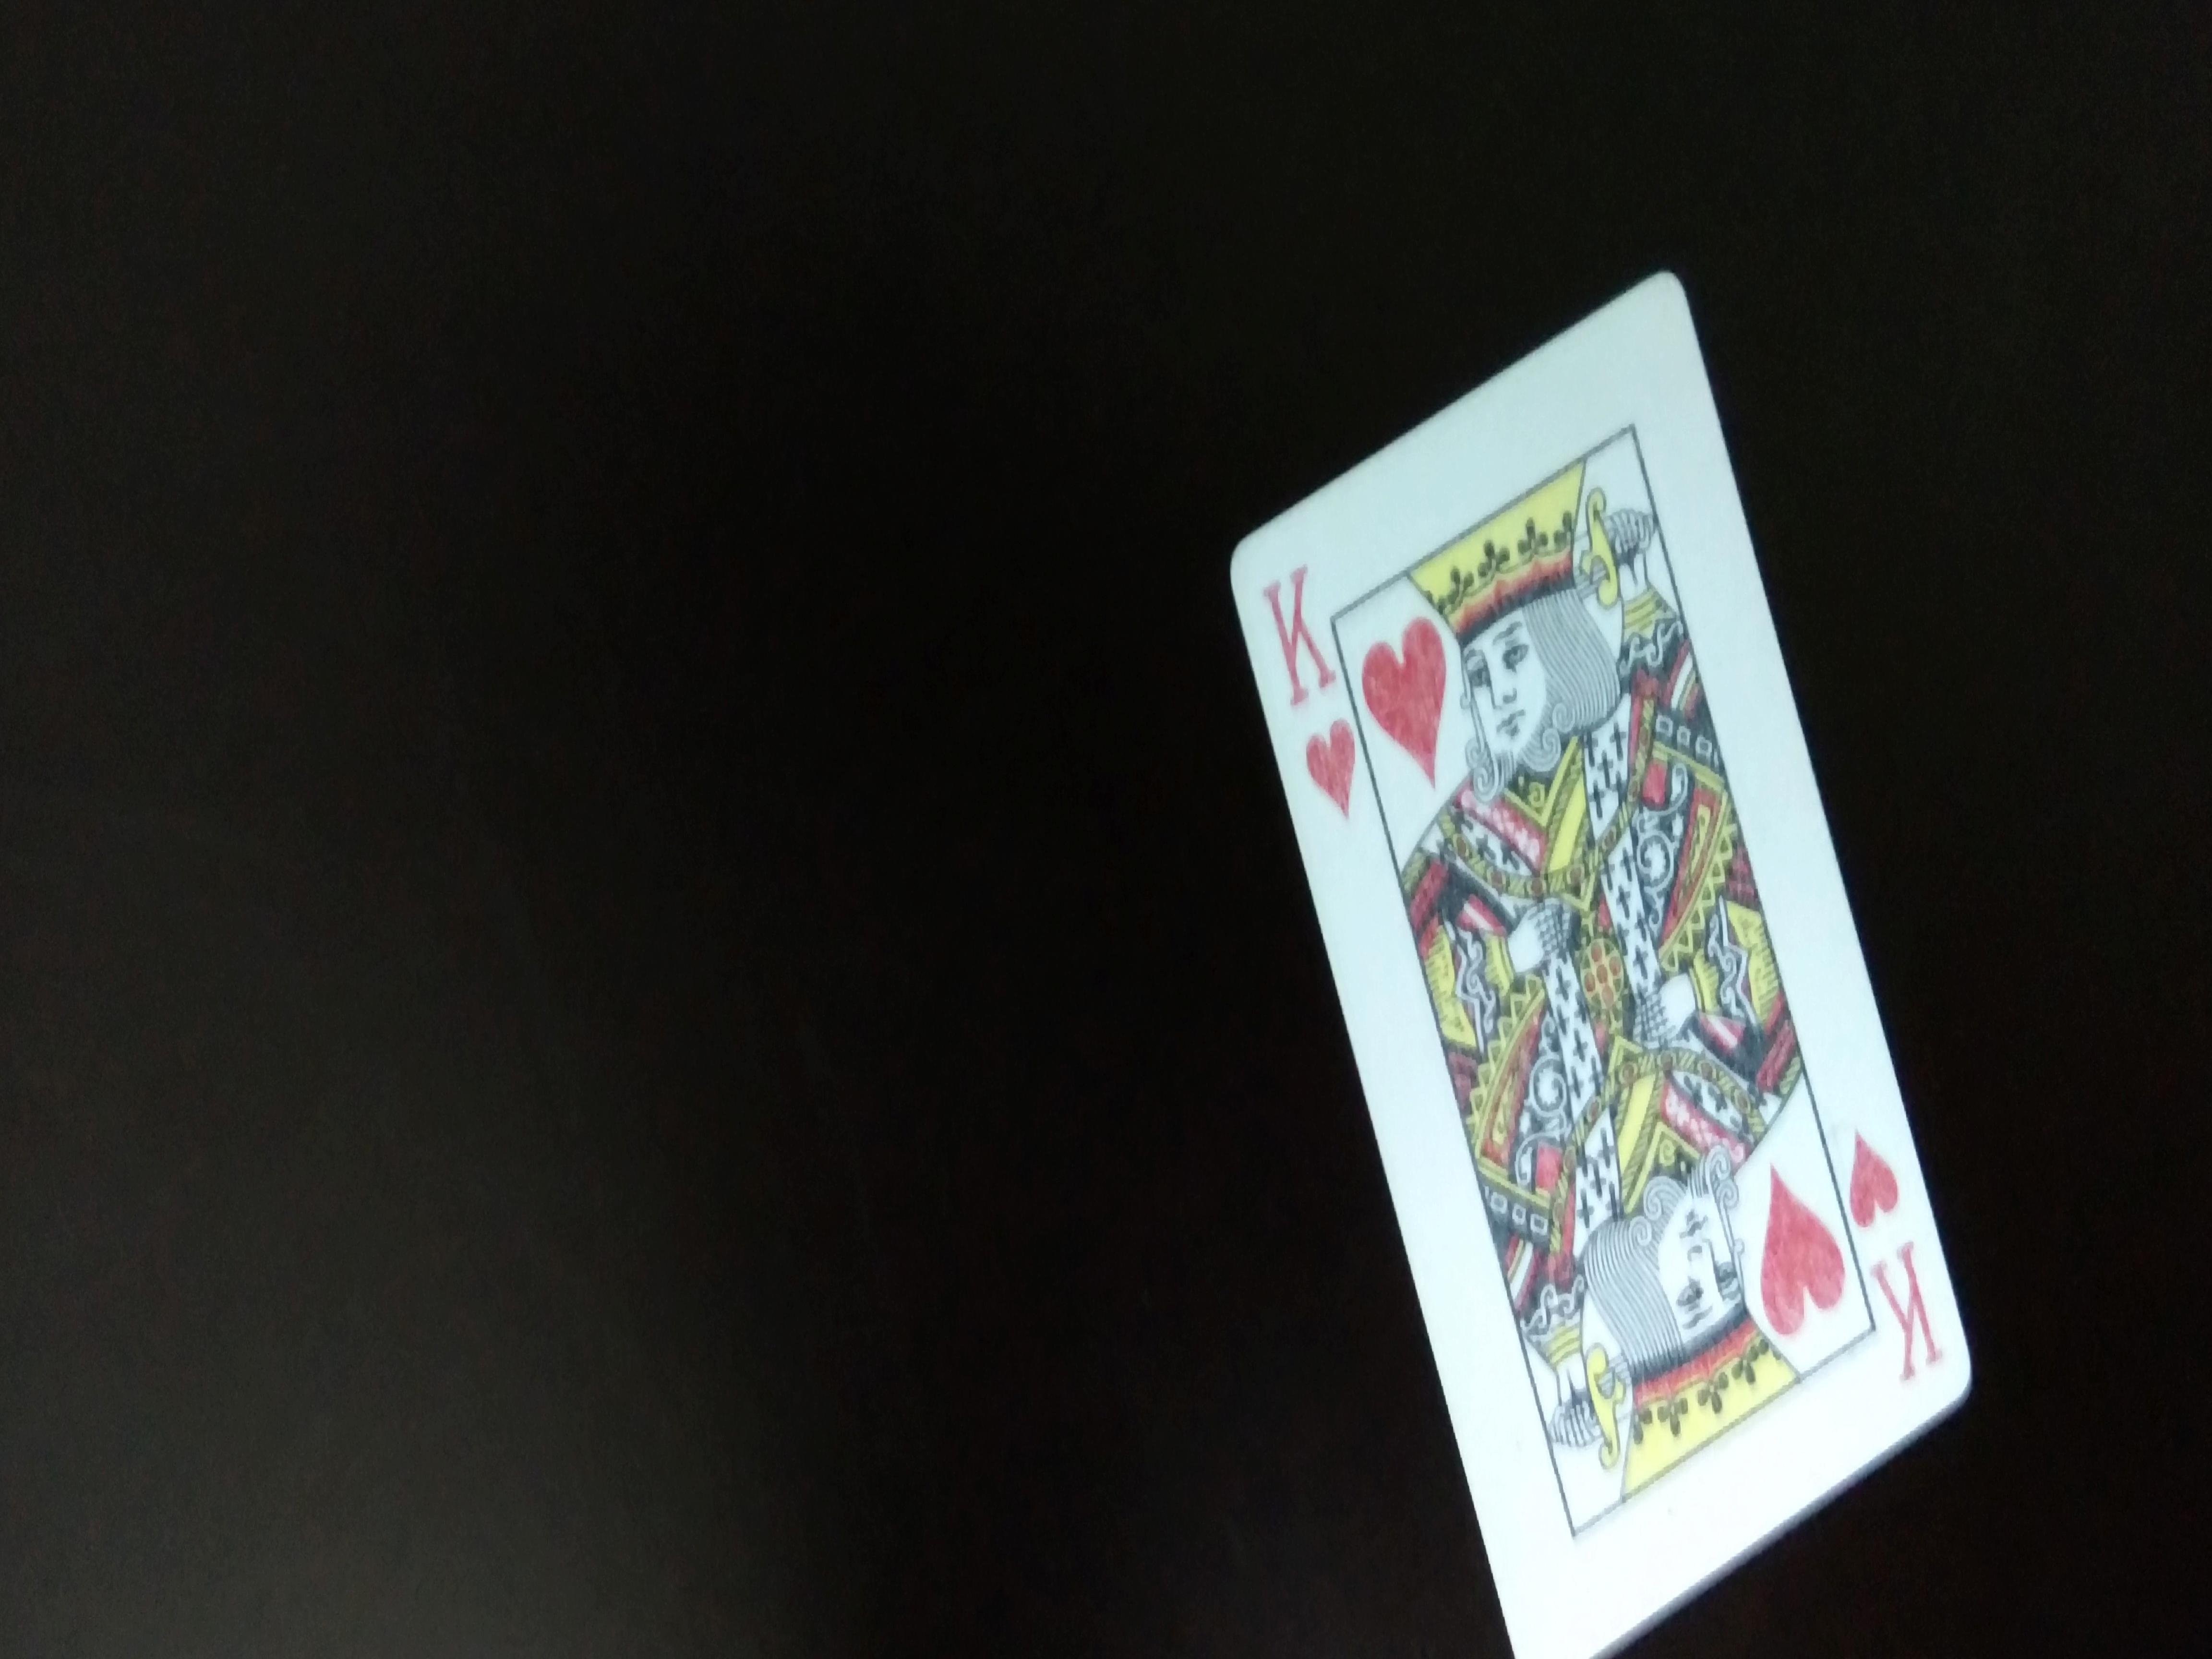KH: (1263, 558, 1362, 833)
